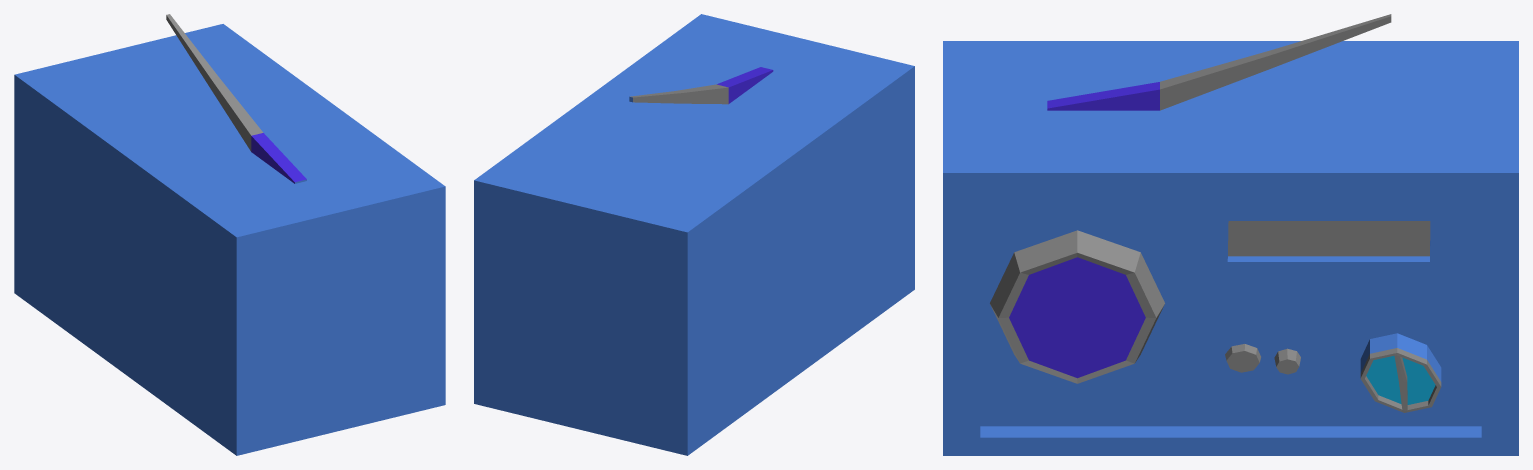
File: Radio.fbx
3 views of the same model, side by side, from view 1: azimuth 30°, elevation 25°; view 2: azimuth 150°, elevation 25°; view 3: azimuth 270°, elevation 25° (orthographic). The views are drawn at different scales.
Parts seen in each view (by area): view 1: Cube; view 2: Cube; view 3: Cube.
Part boxes in pixels (x1,y1,x2,y2): Cube: (14,14,445,455); Cube: (474,14,914,455); Cube: (943,14,1518,455).
Size of the model in its own units: 213 by 265 by 369.
